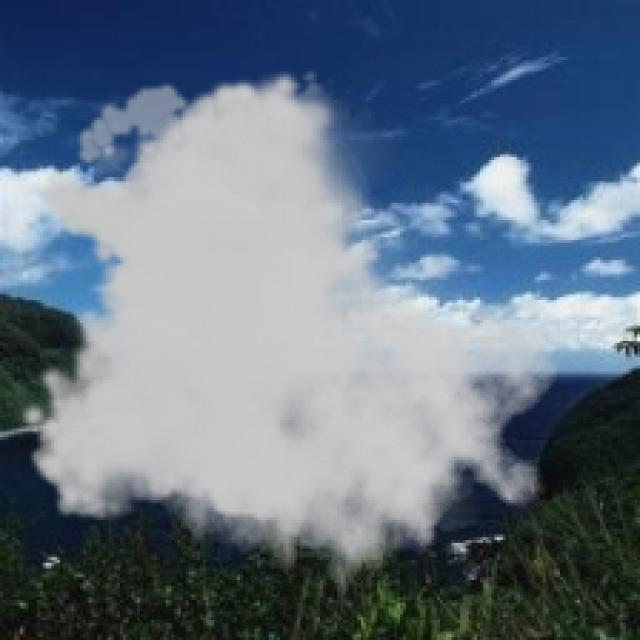smoke: (17, 69, 560, 614)
